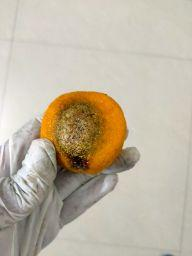orange: (39, 90, 129, 175)
